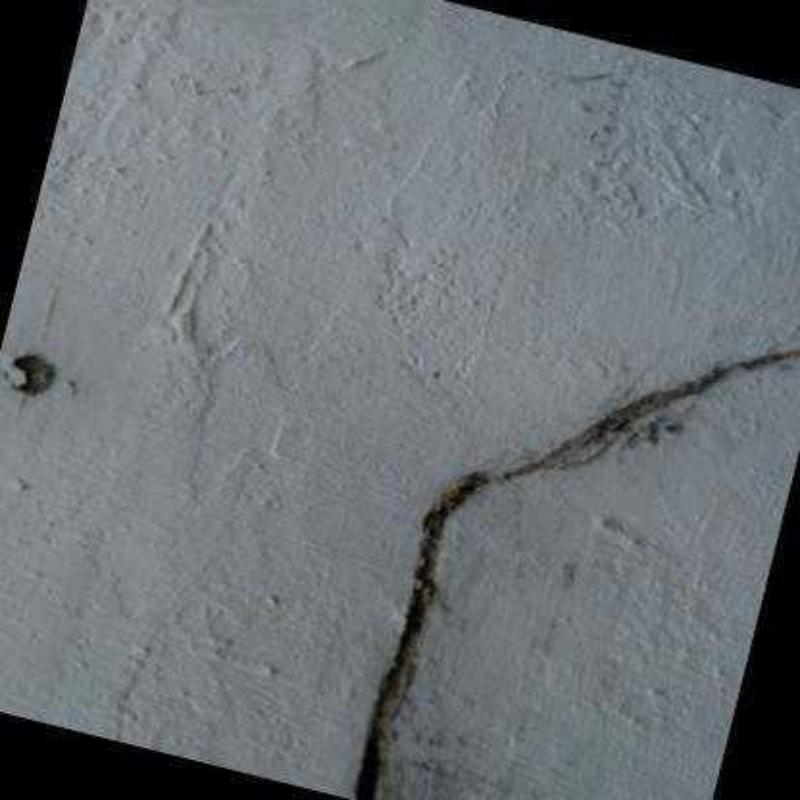pothole: (343, 337, 800, 800)
